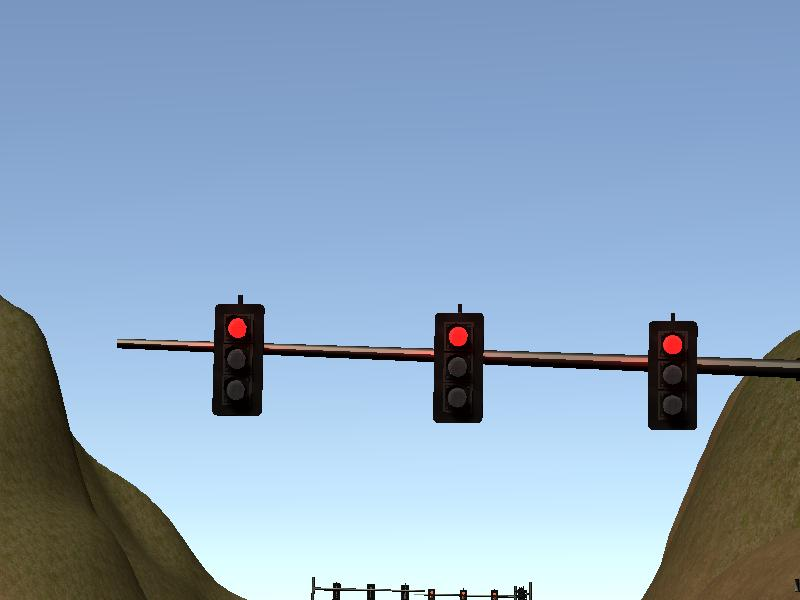Red: (433, 313, 482, 422), (215, 303, 262, 414), (648, 321, 696, 429)
